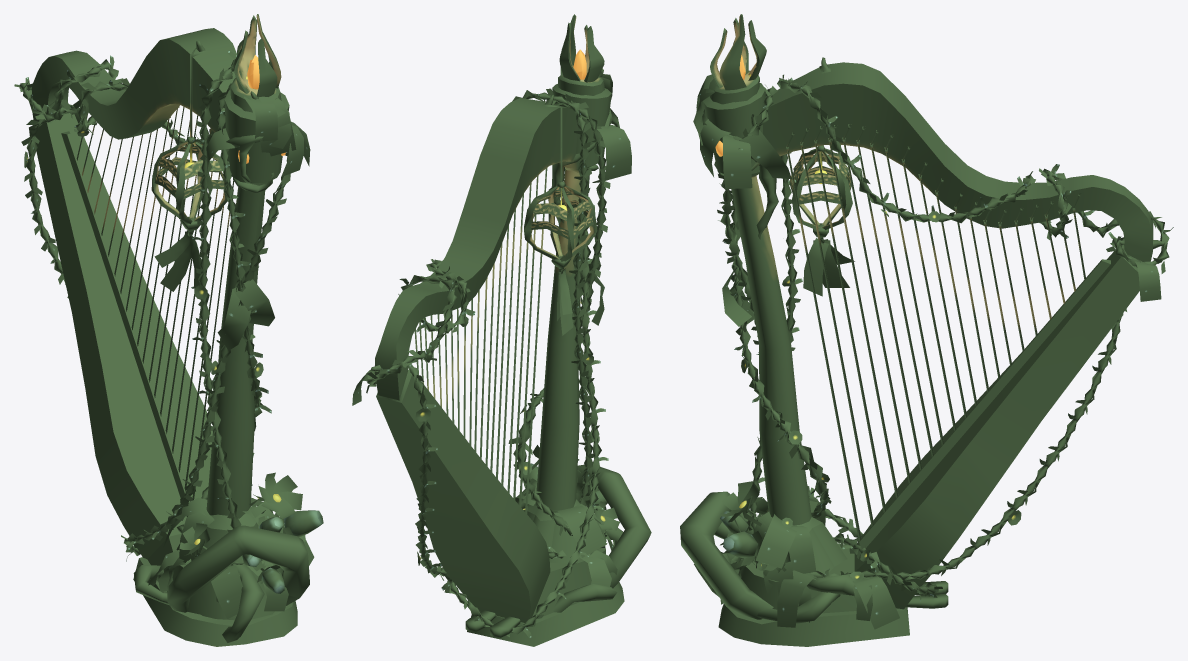
Rendered from harp.fbx.
3 renders of one model, left to right at view 1: azimuth 30°, elevation 25°; view 2: azimuth 150°, elevation 25°; view 3: azimuth 270°, elevation 25°, orthographic. The views are drawn at different scales.
Visible parts, largest first — view 1: Cube.008; view 2: Cube.008; view 3: Cube.008.
Boxes of the visible parts, x1,y1,x2,y2 form: Cube.008: (14, 14, 323, 646); Cube.008: (352, 14, 651, 646); Cube.008: (680, 14, 1173, 646).
Bounding box in the file's own units: 82.27 × 288 × 213.
